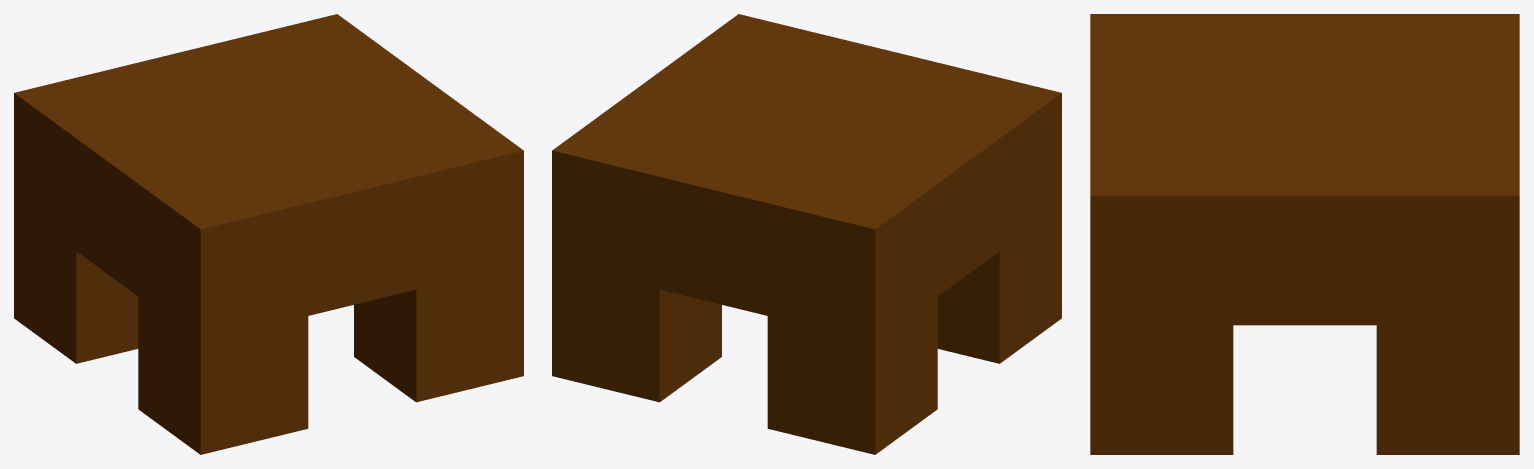
The model's file is secretaria.obj.
The picture shows the model from 3 angles, left to right: view 1: azimuth 30°, elevation 25°; view 2: azimuth 150°, elevation 25°; view 3: azimuth 270°, elevation 25°; orthographic projection. The views are drawn at different scales.
Size of the model in its own units: 0.3 by 0.2 by 0.3.
1 material, 1 textured.
